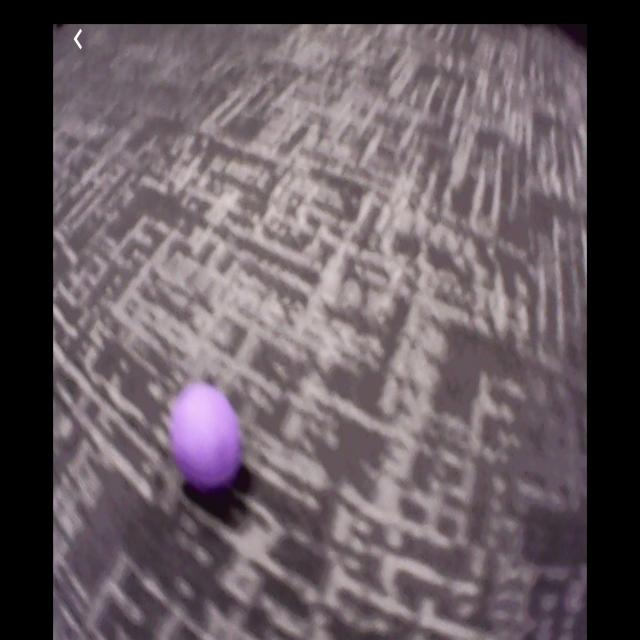ball: (173, 387, 240, 488)
